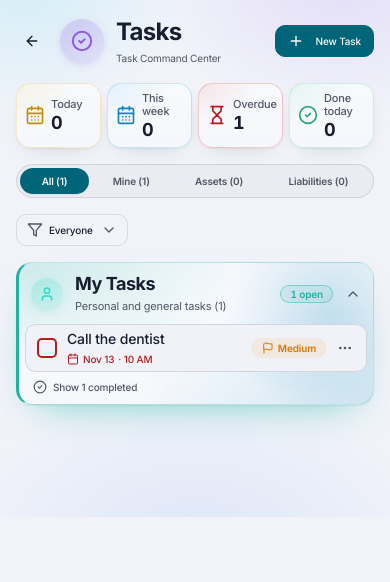
Test: Tasks page: a profile scope never looks like an empty list › Everyone: no notice, both tasks listed
This screenshot has width=390, height=582.
expect the text "Call the dentist" is shown: met, box [67, 330, 164, 347]
expect the text "Buy milk" is not shown: met
Click the button with test id "tasks-group-done-toggle-mine". click: [85, 386]
box: [25, 376, 145, 398]
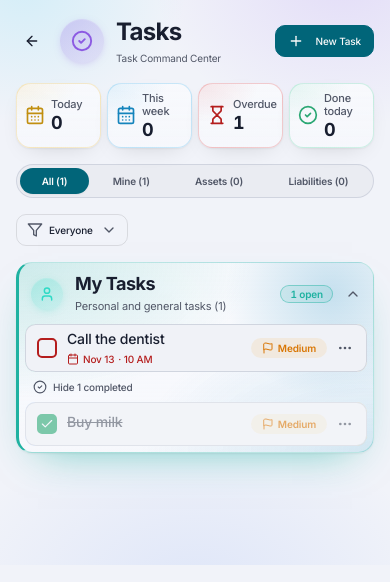
expect the text "Buy milk" is shown: met, box [67, 413, 122, 430]
